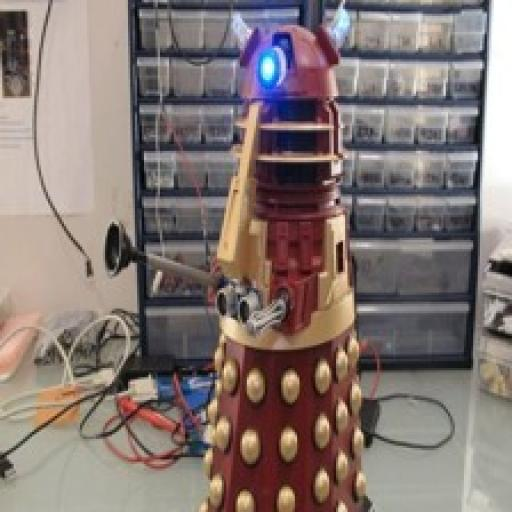dalek: (106, 5, 377, 512)
